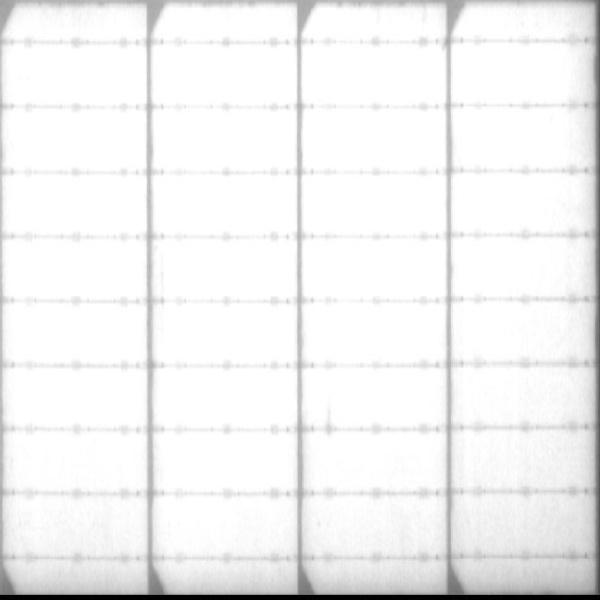hot_spot: (155, 111, 292, 166), (3, 50, 144, 102), (7, 176, 140, 231), (309, 177, 441, 232), (7, 113, 141, 167), (7, 241, 140, 294), (11, 436, 144, 487), (315, 117, 445, 168), (11, 376, 144, 425), (162, 182, 289, 233), (9, 310, 141, 359), (310, 52, 439, 102), (163, 436, 292, 486), (159, 51, 293, 99), (311, 244, 444, 292), (159, 311, 290, 359), (164, 499, 287, 550), (161, 372, 290, 420), (162, 247, 290, 295), (316, 373, 440, 422), (313, 440, 439, 487), (456, 308, 566, 360), (461, 373, 568, 425), (314, 315, 439, 359), (463, 435, 566, 483), (463, 114, 563, 162), (320, 503, 437, 544), (461, 244, 561, 291), (459, 182, 557, 227), (459, 54, 561, 97)
